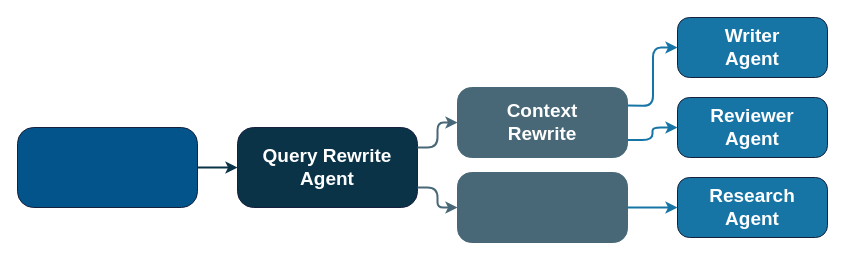
This 845x260 diagram has some shape labels left out. The centre of each missing label's shape, as x and y in pixels:
Search Rewrite: pixel 542 207
User Drafting Policy Document: pixel 107 167
